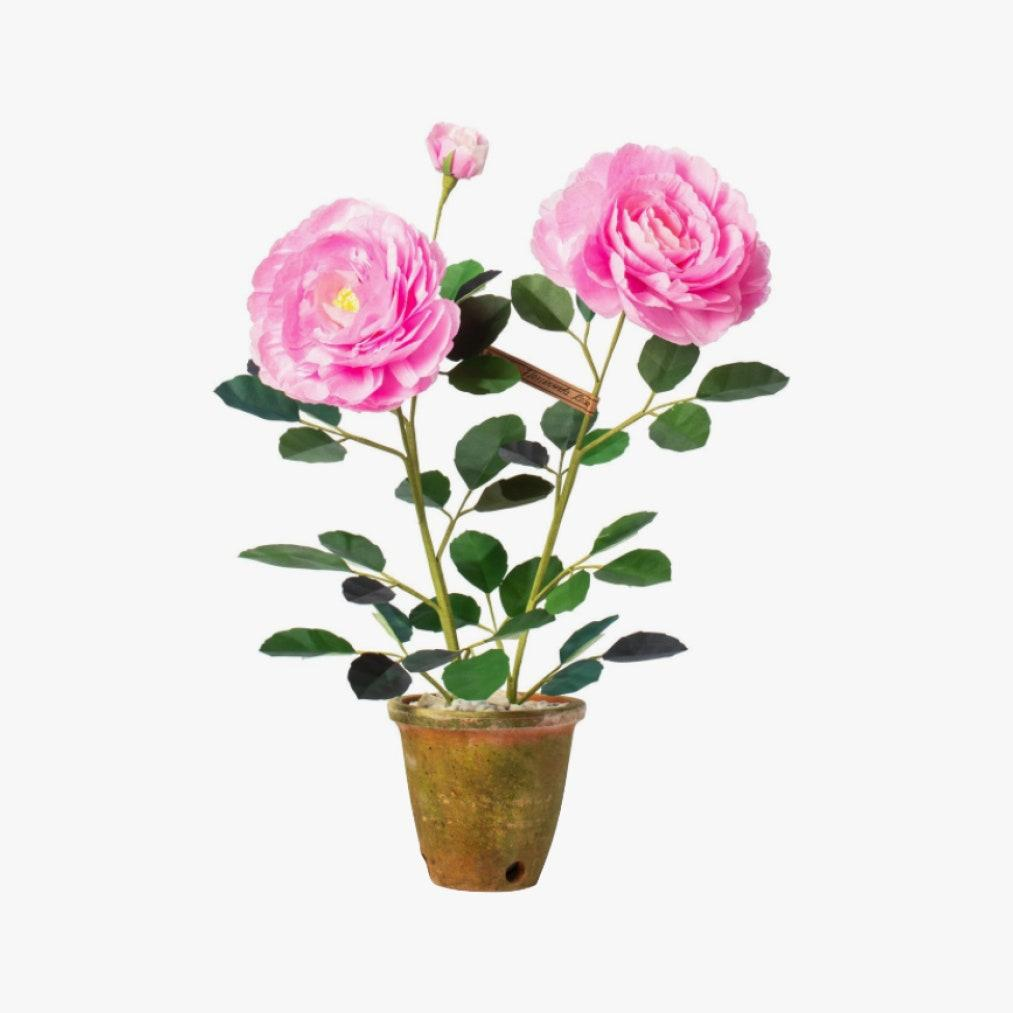Rose: (527, 124, 787, 357), (223, 202, 467, 403), (383, 118, 501, 184)
